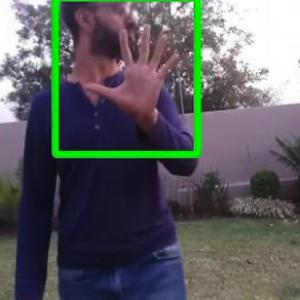follow_hand: (83, 20, 185, 122)
